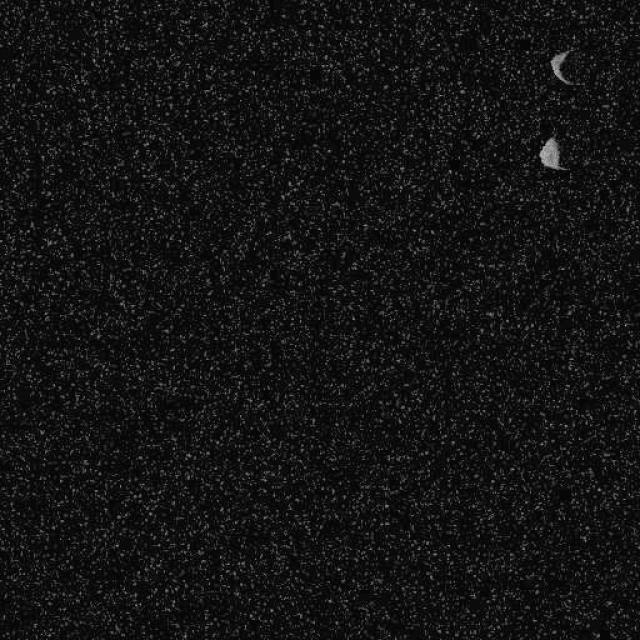D2: (548, 46, 582, 86), (536, 135, 569, 171)
